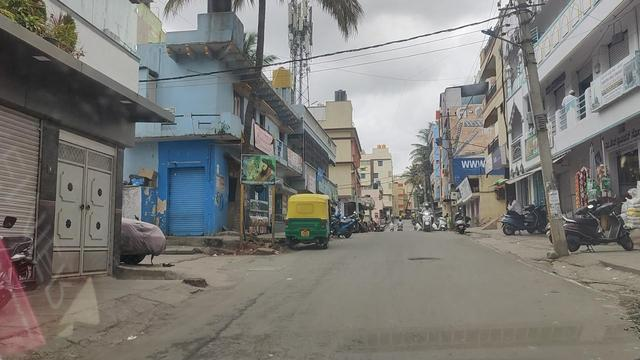RoadDamages: (224, 285, 264, 326), (399, 243, 451, 269), (181, 332, 228, 357), (246, 262, 284, 275)
